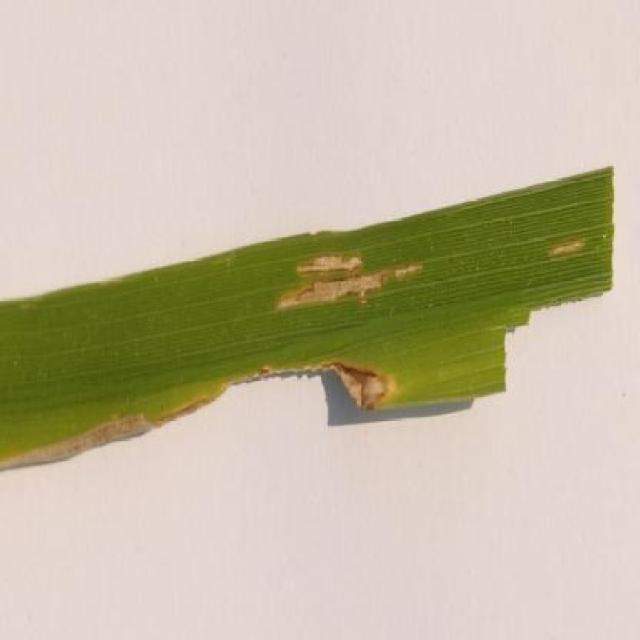Brown_Spot: (0, 163, 617, 477)
